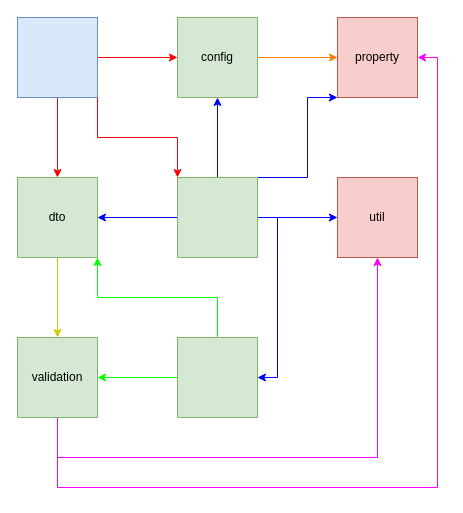
Image size: 463x513. Some labels were removed from this diagram. The shapes that lost their labels are listed below. From the top down, each one's centre as x and y in pixels, then its label:
the point at 57,57: api
the point at 217,217: service
the point at 217,377: persistency
